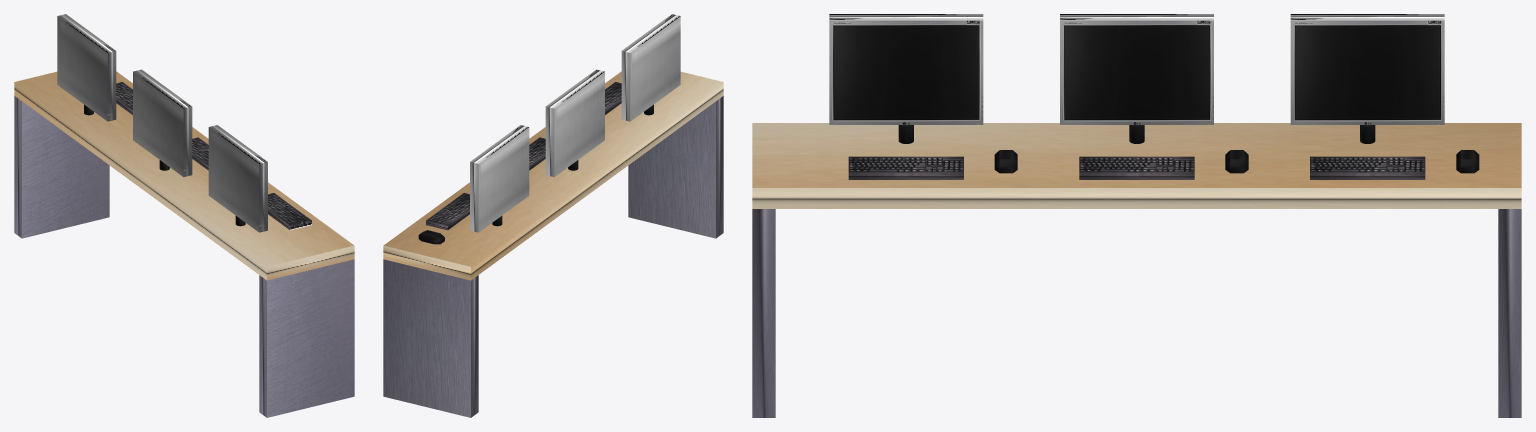
Rendered from sala_ordinadors.fbx.
The picture shows the model from 3 angles, left to right: view 1: azimuth 30°, elevation 25°; view 2: azimuth 150°, elevation 25°; view 3: azimuth 270°, elevation 25°; orthographic projection. The views are drawn at different scales.
Visible parts, largest first — view 1: Cube_002, Cube_003, Cube_004, Cube_008, Cube_007, Cube_001, Cube_005, Cube, Cube_006; view 2: Cube_002, Cube_004, Cube_003, Cube_007, Cube_008, Cube_001, Cube_006, Cube, Cube_005; view 3: Cube_002, Cube_008, Cube_007, Cube_001, Cube_004, Cube_003, Cube, Cube_006, Cube_005.
Boxes of the visible parts, bbox=[...] form: Cube_002: bbox=[14, 71, 354, 280]; Cube_003: bbox=[259, 259, 354, 417]; Cube_004: bbox=[14, 96, 109, 238]; Cube_008: bbox=[208, 125, 267, 232]; Cube_007: bbox=[57, 14, 116, 121]; Cube_001: bbox=[133, 69, 192, 177]; Cube_005: bbox=[268, 193, 311, 230]; Cube: bbox=[192, 137, 208, 170]; Cube_006: bbox=[116, 82, 132, 114]; Cube_002: bbox=[383, 71, 723, 280]; Cube_004: bbox=[383, 259, 478, 417]; Cube_003: bbox=[628, 96, 723, 238]; Cube_007: bbox=[470, 125, 529, 232]; Cube_008: bbox=[621, 14, 680, 121]; Cube_001: bbox=[545, 69, 604, 177]; Cube_006: bbox=[426, 193, 469, 230]; Cube: bbox=[529, 137, 545, 170]; Cube_005: bbox=[605, 82, 621, 114]; Cube_002: bbox=[752, 123, 1521, 208]; Cube_008: bbox=[829, 14, 983, 124]; Cube_007: bbox=[1290, 14, 1444, 124]; Cube_001: bbox=[1060, 14, 1213, 124]; Cube_004: bbox=[1498, 209, 1521, 417]; Cube_003: bbox=[752, 209, 775, 417]; Cube: bbox=[1079, 156, 1194, 179]; Cube_006: bbox=[1310, 156, 1425, 179]; Cube_005: bbox=[848, 156, 963, 179].
Size of the model in its own units: 2 by 5.05 by 10.
8 materials, 7 textured.
